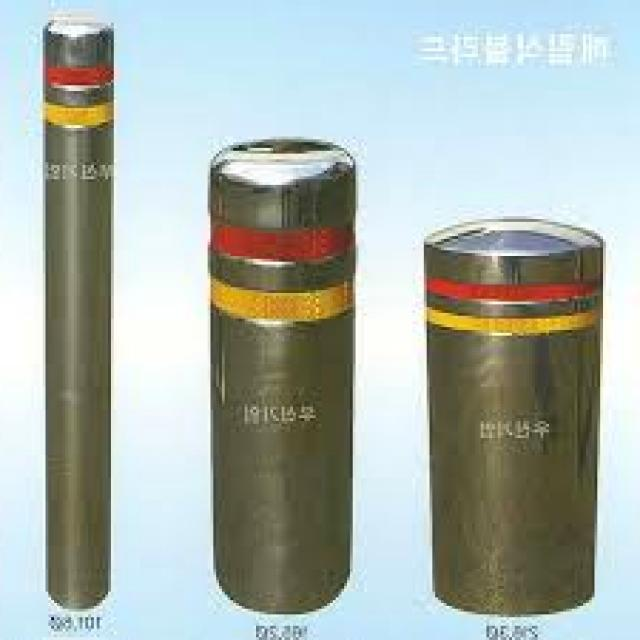bollard: (425, 201, 619, 622), (202, 130, 362, 616), (40, 6, 125, 616)
